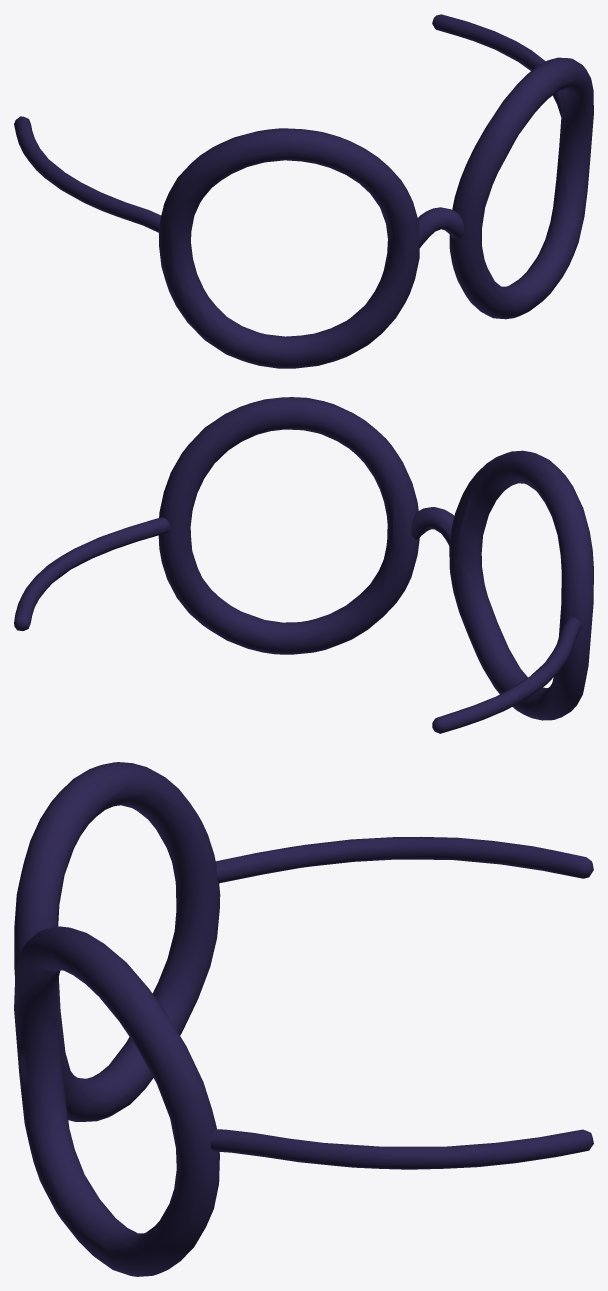
Rendered from face-nerdy.glb.
3 renders of one model, top to bottom at view 1: azimuth 30°, elevation 25°; view 2: azimuth 150°, elevation 25°; view 3: azimuth 270°, elevation 25°, orthographic. The views are drawn at different scales.
Parts seen in each view (by area): view 1: face-nerdy; view 2: face-nerdy; view 3: face-nerdy.
Part boxes in pixels (box(x1,y1,x2,y2)): face-nerdy: box(14, 14, 593, 368); face-nerdy: box(14, 397, 593, 733); face-nerdy: box(14, 762, 593, 1276).
Size of the model in its own units: 0.8738 by 0.4193 by 0.6694.
